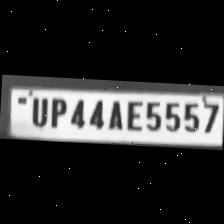4: (66, 94, 88, 130), (84, 96, 106, 130)
5: (142, 98, 162, 132), (161, 98, 181, 132), (180, 99, 200, 133)
7: (198, 100, 220, 134)
A: (103, 97, 123, 131)
E: (122, 96, 144, 132)
P: (46, 94, 66, 128)
U: (26, 93, 48, 127)
